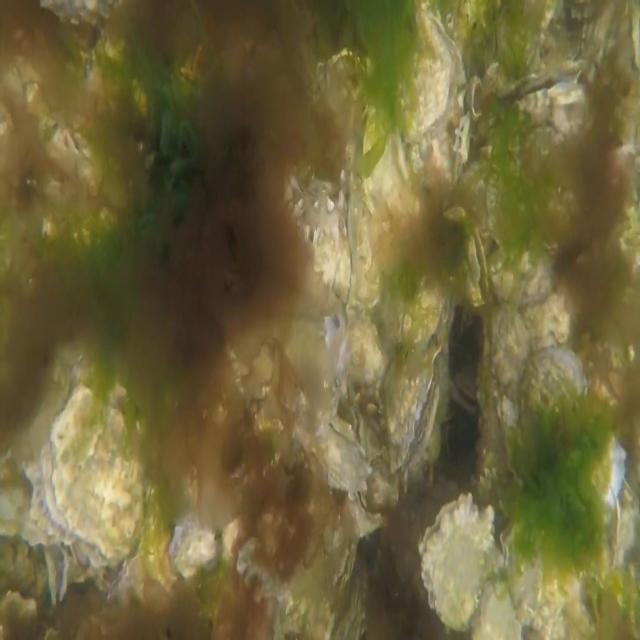Oyster-Closed: (500, 511, 581, 633), (389, 347, 446, 474), (300, 415, 376, 498), (339, 171, 357, 311), (344, 485, 389, 538)
Oyster-Indeterminate: (45, 383, 146, 565), (523, 344, 629, 507), (422, 491, 498, 630), (364, 104, 416, 274), (401, 0, 457, 147), (488, 304, 532, 478), (488, 242, 557, 310), (348, 185, 382, 316), (411, 284, 456, 366), (172, 514, 220, 578)
Oyster-Open: (493, 70, 593, 160), (469, 228, 494, 308), (307, 202, 338, 263)
